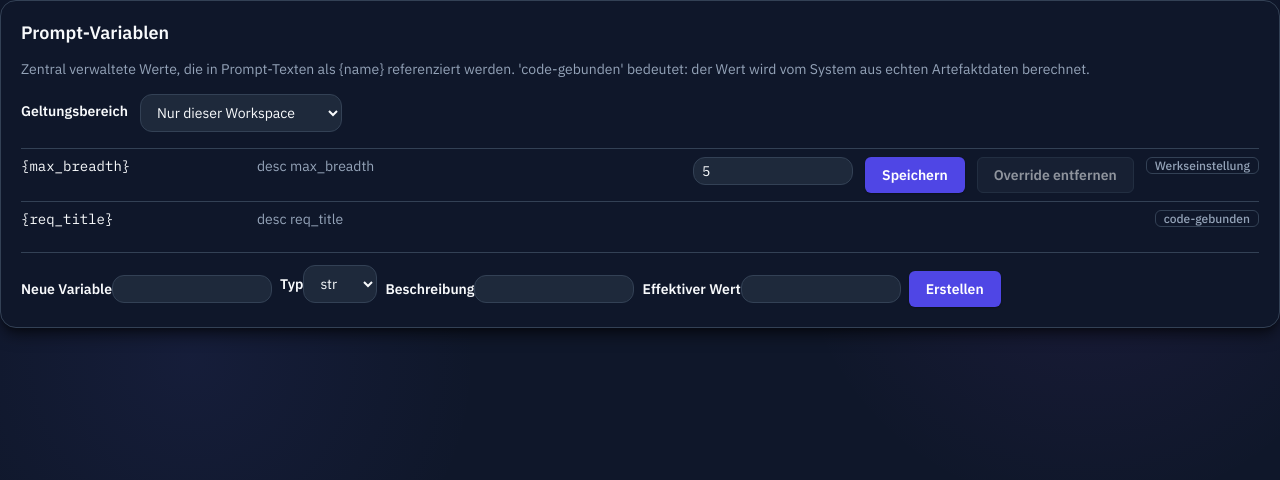
Test case: PromptVariablesSection (spec §5) › surfaces a save error
Expected: the field with test id "prompt-variable-max_breadth-input" is shown, [693,157,853,185]
What coordinates should you click on to do the following:
click the button with test id "prompt-variable-max_breadth-save"
I would click on:
 (915, 175)
Its box is [865,157,965,193].
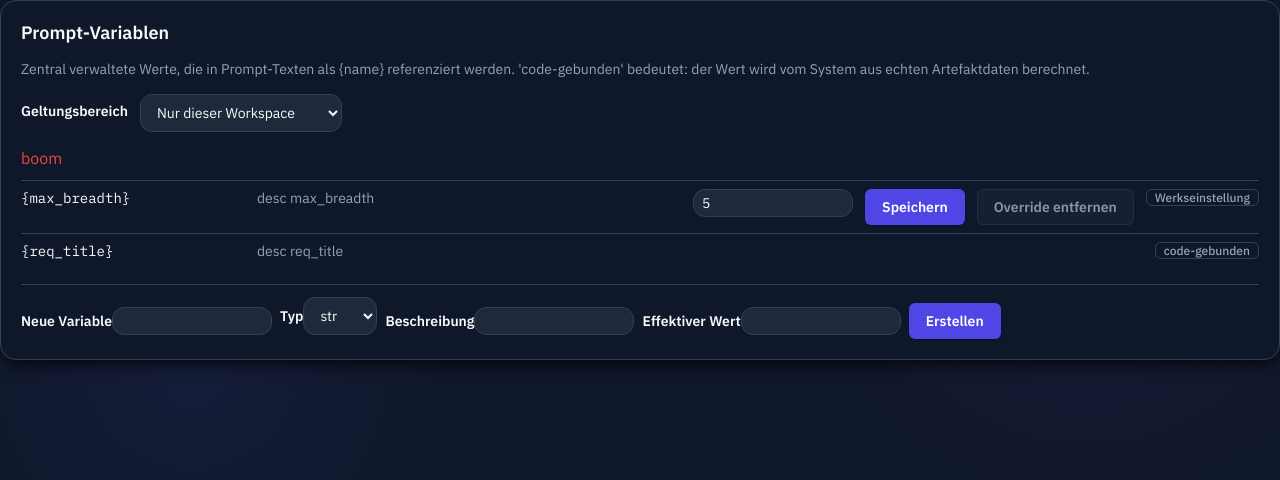
Now the message with test id "prompt-variables-error" reads "boom", box [21,148,62,168]
